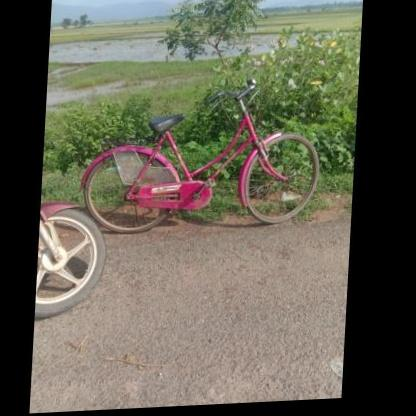Bicycle: (60, 72, 335, 255)
